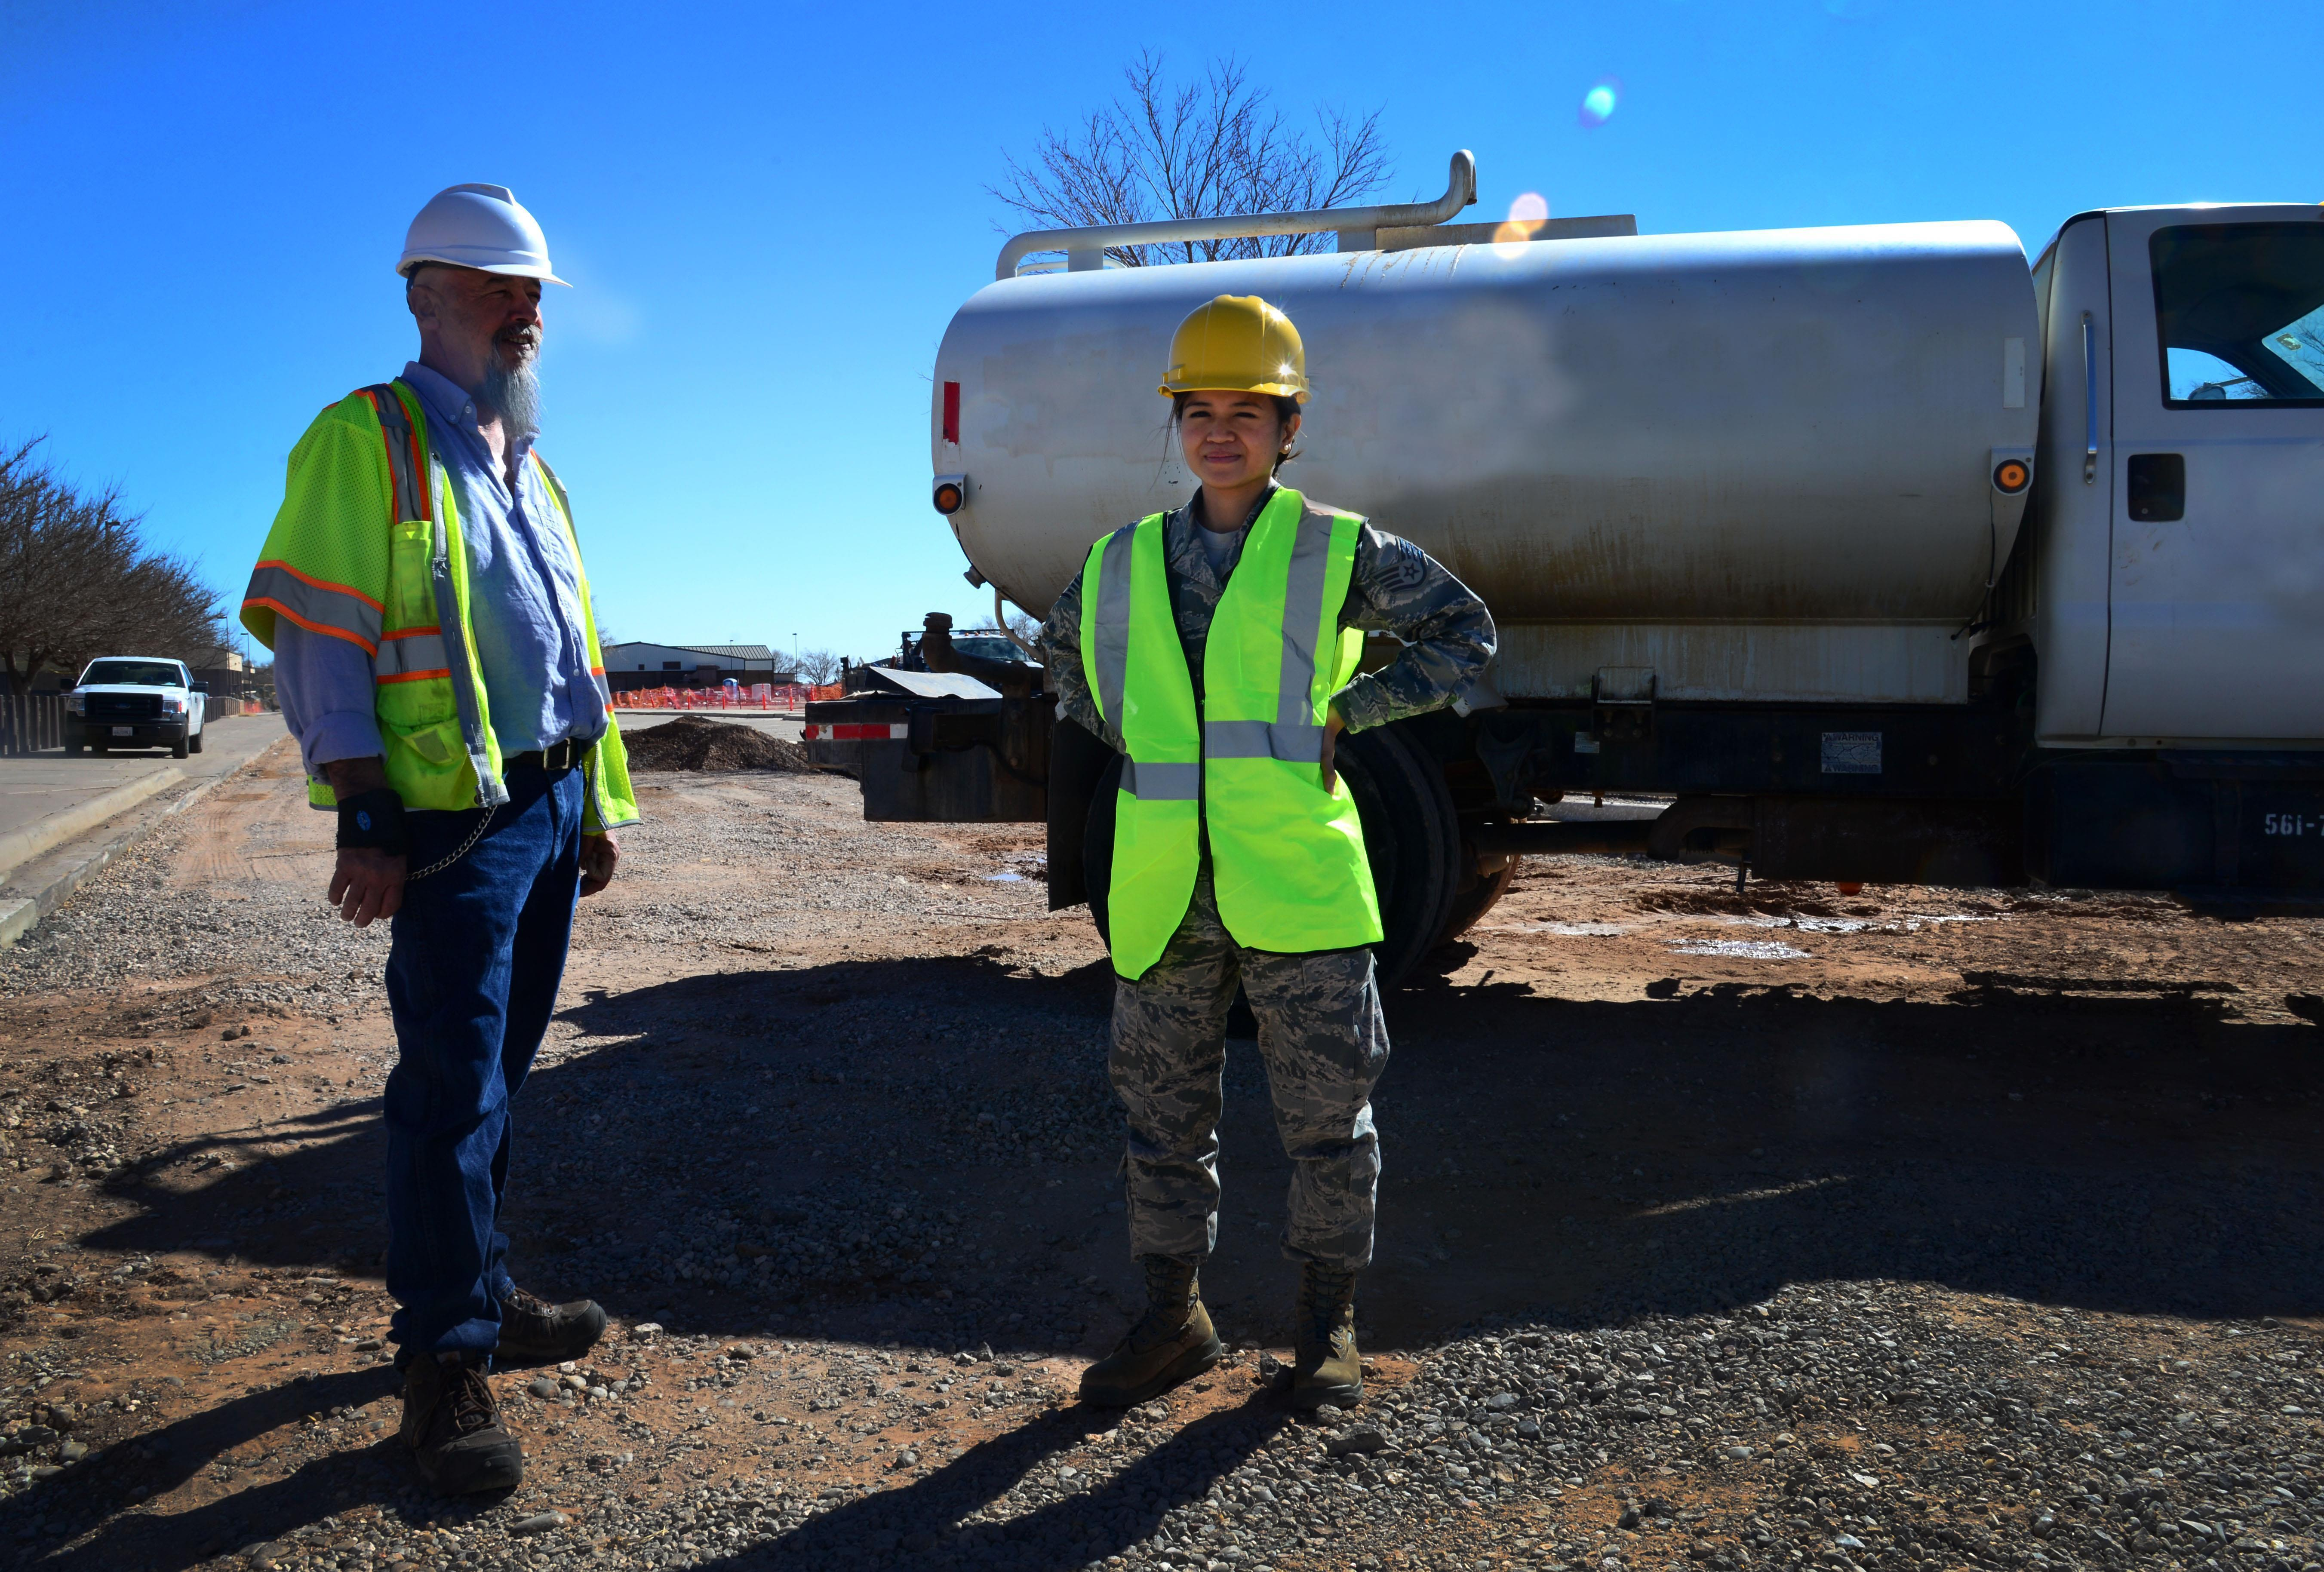vest: (279, 361, 658, 851), (1077, 486, 1407, 958)
